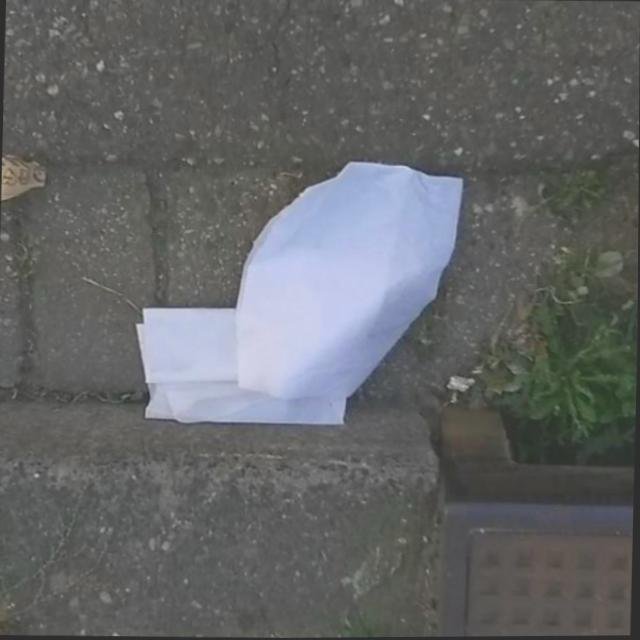Paper: (132, 153, 469, 432)
